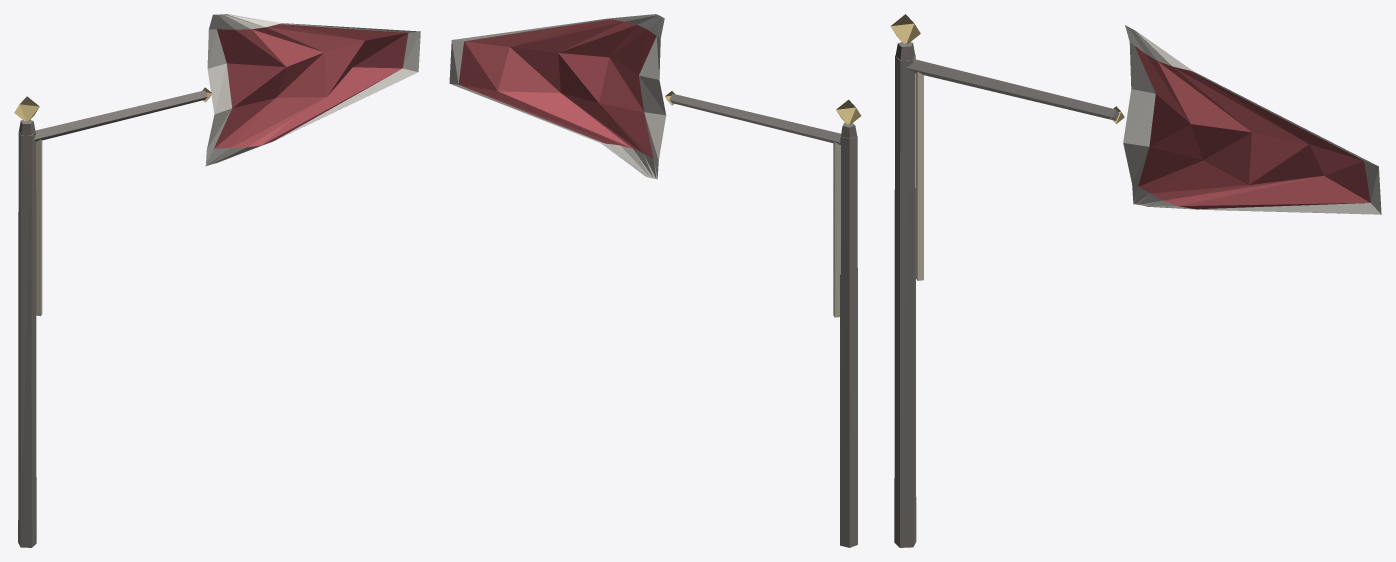
The model's file is flag.pennant.lingqi__pole.stick.fangun__armFly.glb.
3 renders of one model, left to right at view 1: azimuth 30°, elevation 25°; view 2: azimuth 150°, elevation 25°; view 3: azimuth 330°, elevation 25°, orthographic. The views are drawn at different scales.
Parts seen in each view (by area): view 1: flag.pennant.lingqi; view 2: flag.pennant.lingqi; view 3: flag.pennant.lingqi.
Part boxes in pixels (x1=…): flag.pennant.lingqi: x1=14, y1=14, x2=420, y2=547; flag.pennant.lingqi: x1=449, y1=14, x2=861, y2=547; flag.pennant.lingqi: x1=890, y1=14, x2=1381, y2=547.
Bounding box in the file's own units: 2.19 × 2.47 × 0.2144.
